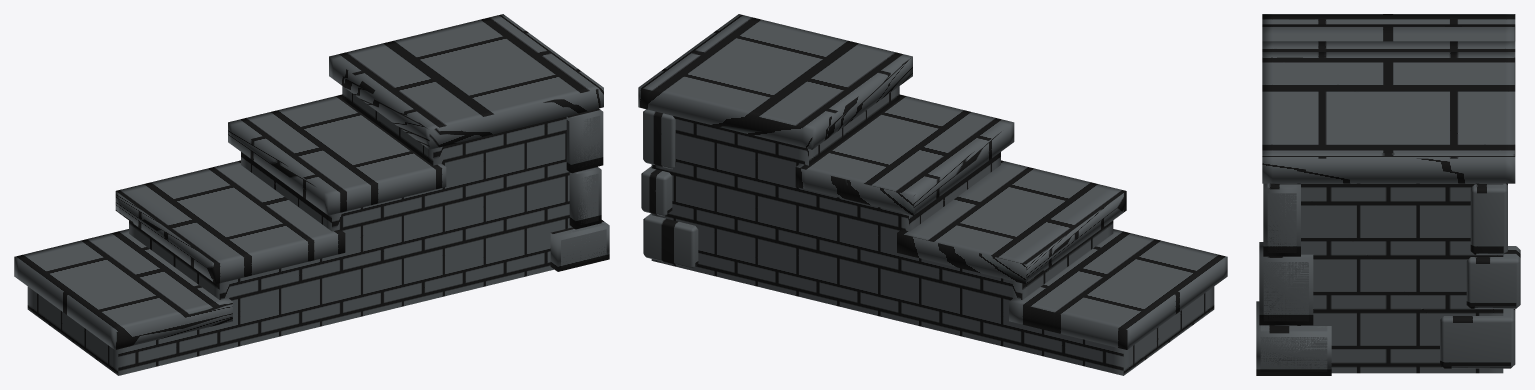
The model's file is Stairs.fbx.
The picture shows the model from 3 angles, left to right: view 1: azimuth 30°, elevation 25°; view 2: azimuth 150°, elevation 25°; view 3: azimuth 270°, elevation 25°; orthographic projection. The views are drawn at different scales.
Parts seen in each view (by area): view 1: StairTiles, StairBase, StairBricks, pasted__pasted__pasted__pCube2, pasted__pasted__pCube2, pasted__pCube2; view 2: StairTiles, StairBase, StairBricks; view 3: StairTiles, StairBase, StairBricks, pasted__pasted__pCube2, pasted__pCube2, pasted__pasted__pasted__pCube2.
Boxes of the visible parts, box(x1,y1,x2,y2) form: StairTiles: box(14, 14, 603, 349); StairBase: box(27, 86, 572, 375); StairBricks: box(554, 109, 606, 267); pasted__pasted__pasted__pCube2: box(566, 108, 603, 172); pasted__pasted__pCube2: box(569, 166, 601, 229); pasted__pCube2: box(550, 220, 609, 271); StairTiles: box(638, 14, 1227, 349); StairBase: box(651, 86, 1214, 375); StairBricks: box(641, 109, 698, 268); StairTiles: box(1262, 14, 1515, 183); StairBase: box(1274, 183, 1503, 373); StairBricks: box(1260, 183, 1520, 371); pasted__pasted__pCube2: box(1259, 242, 1313, 325); pasted__pCube2: box(1256, 301, 1331, 375); pasted__pasted__pasted__pCube2: box(1263, 183, 1300, 256).
Bounding box in the file's own units: 6.26 × 2.12 × 2.31.
